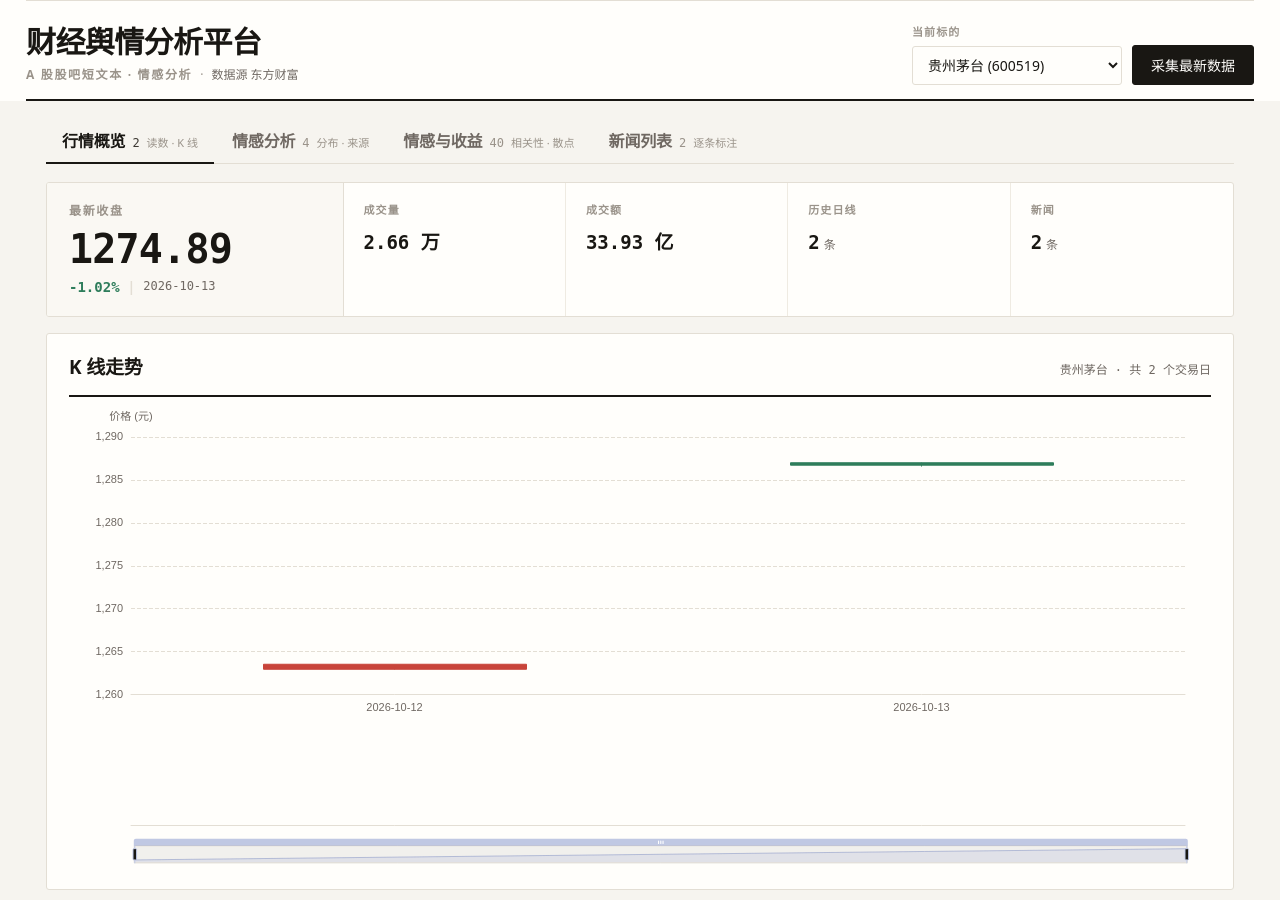
Test case: App 集成 › 来源分布不再是彩色饼图,而是条状列表
Click the tab "情感分析 4 分布 · 来源": (301, 141) [216,119,385,163]
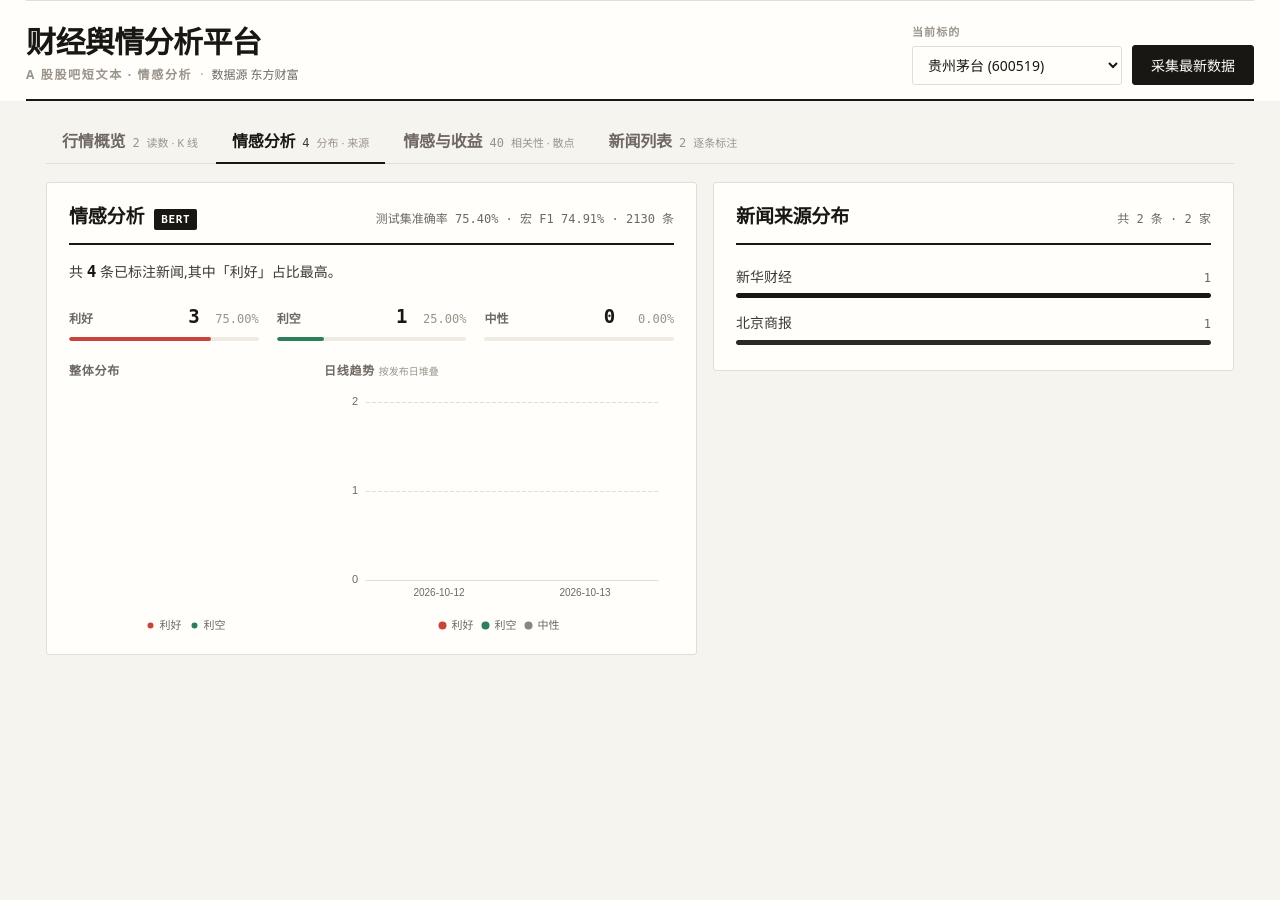
Expected: the text "新华财经" is shown, [736,266,792,288]
Expected: the text "北京商报" is shown, [736,312,792,335]
